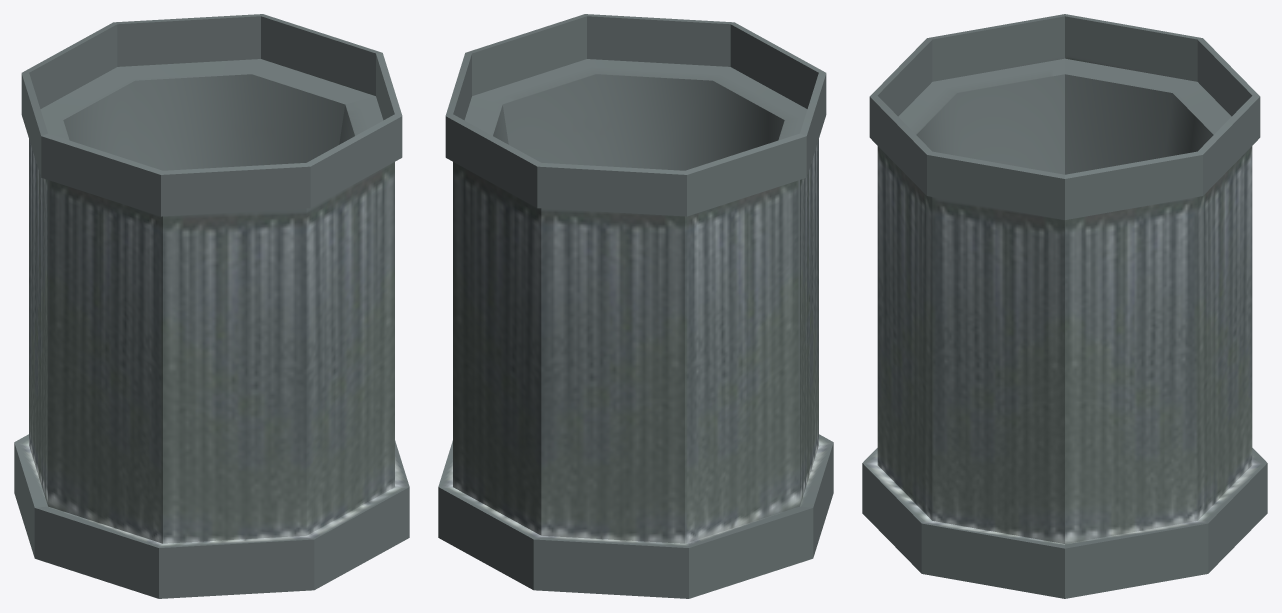
The model's file is SurroundingEnvironment_Dustbin.fbx.
3 renders of one model, left to right at view 1: azimuth 30°, elevation 25°; view 2: azimuth 150°, elevation 25°; view 3: azimuth 270°, elevation 25°, orthographic.
Parts seen in each view (by area): view 1: Dustbin; view 2: Dustbin; view 3: Dustbin.
Boxes of the visible parts, x1=… form: Dustbin: x1=14, y1=14, x2=409, y2=598; Dustbin: x1=438, y1=14, x2=833, y2=598; Dustbin: x1=862, y1=14, x2=1267, y2=598.
Bounding box in the file's own units: 77.8 × 88.49 × 77.8.
